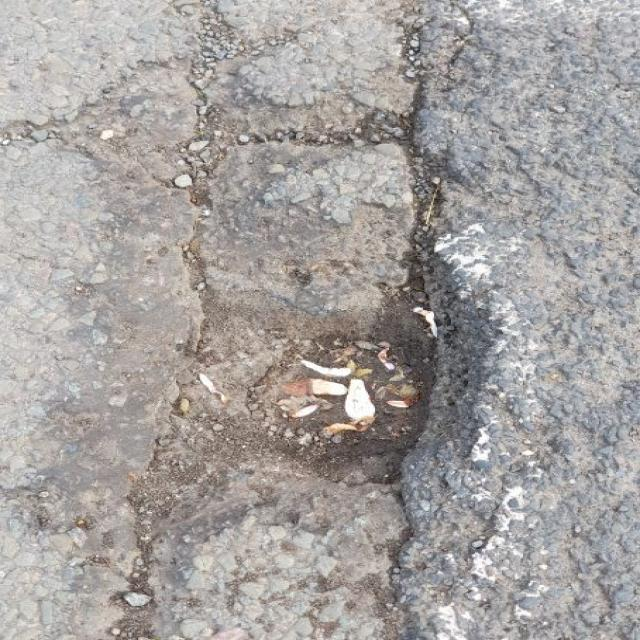Pothole: (126, 85, 501, 515)
